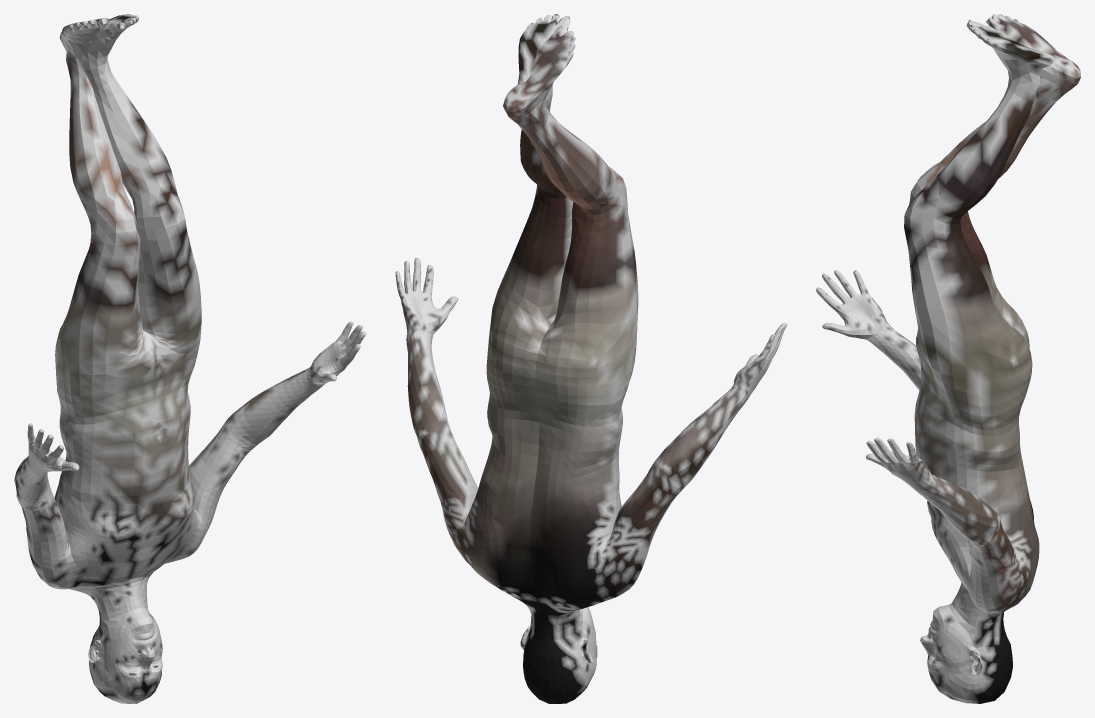
The picture shows the model from 3 angles, left to right: view 1: azimuth 30°, elevation 25°; view 2: azimuth 150°, elevation 25°; view 3: azimuth 270°, elevation 25°; orthographic projection.
Size of the model in its own units: 0.9895 by 1.83 by 0.6481.
